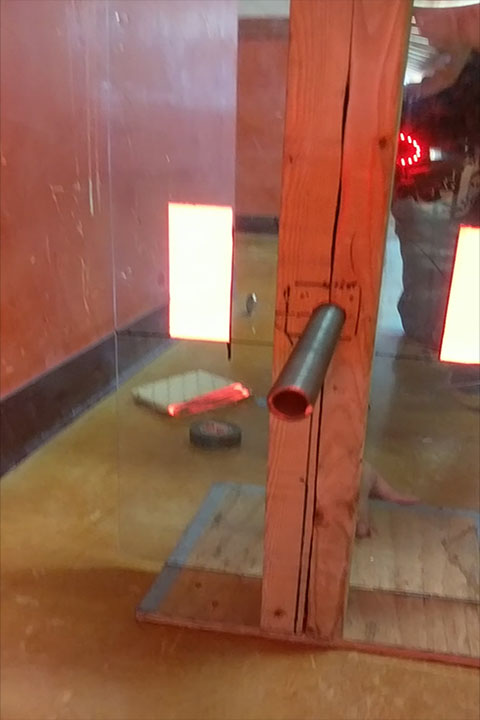gear: (167, 202, 233, 343), (438, 222, 480, 363)
